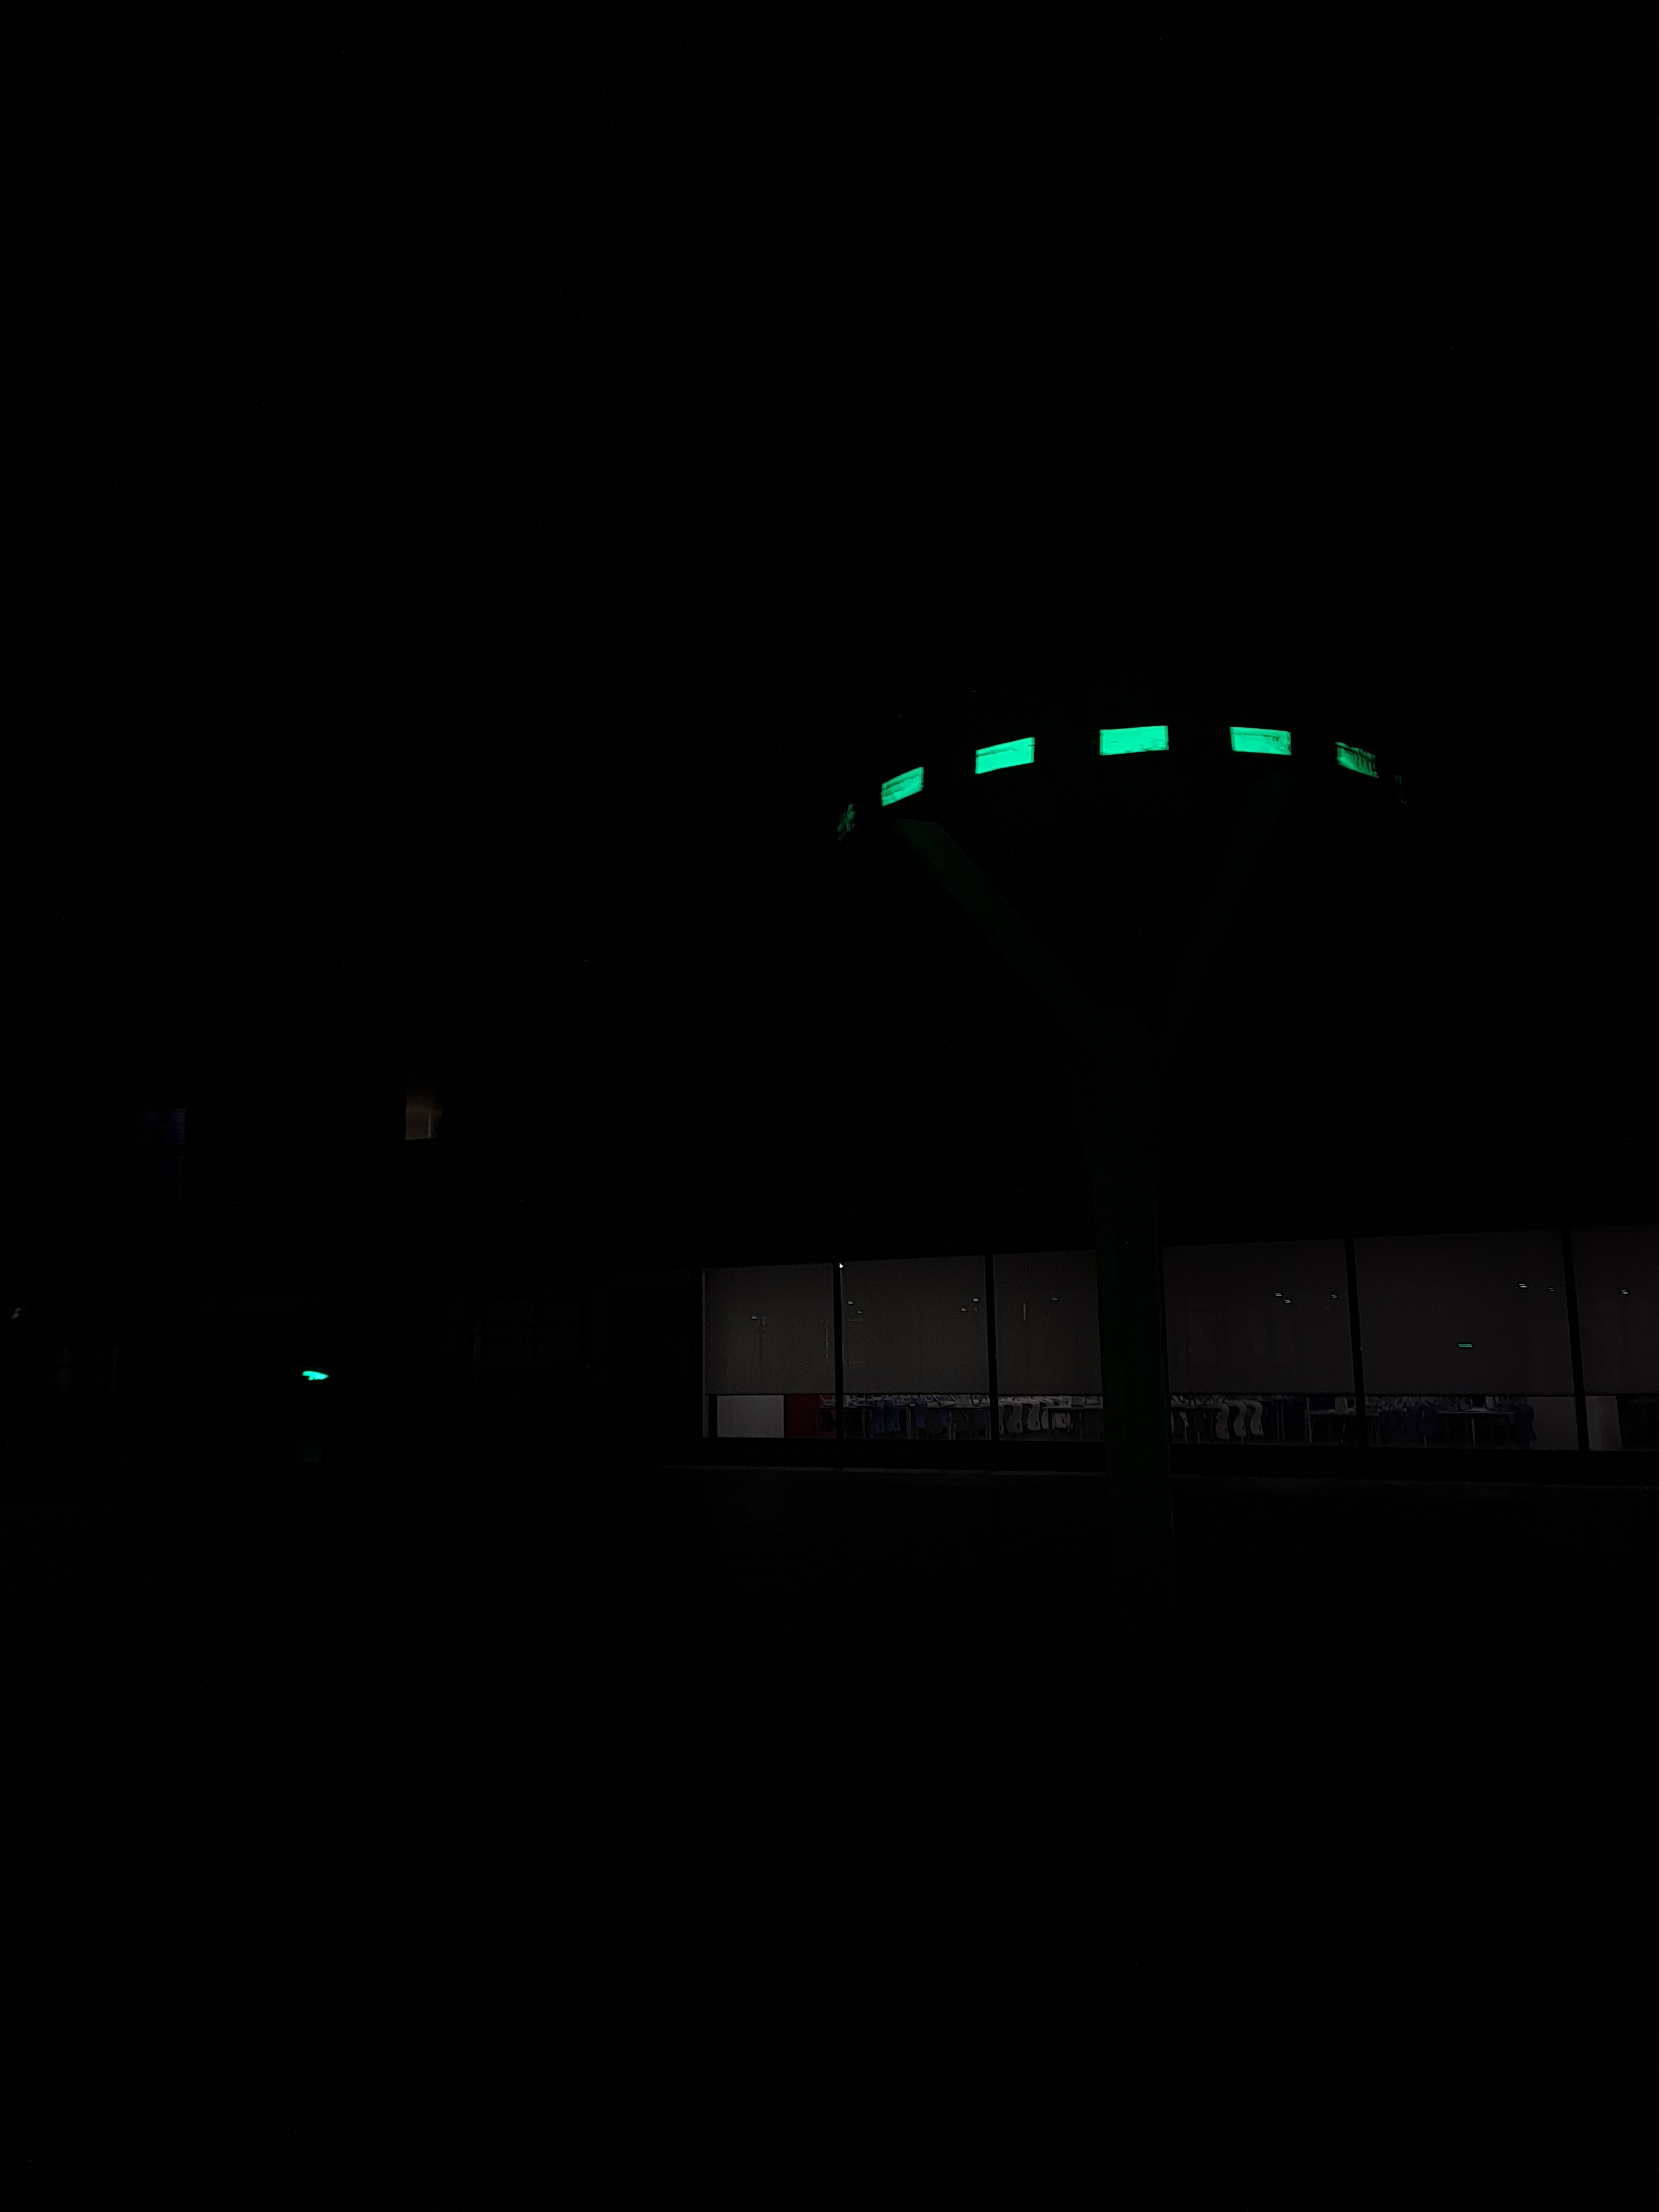hoop: (864, 718, 1387, 810)
